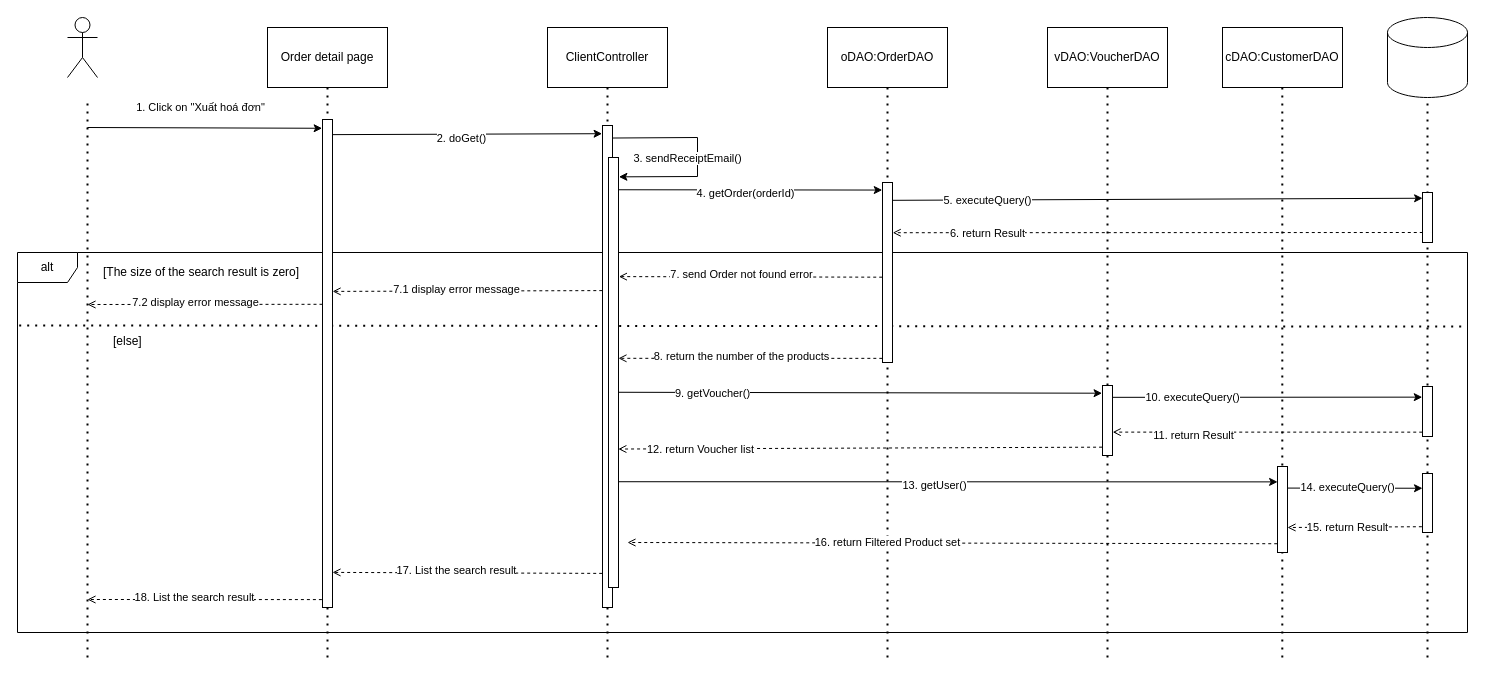
Image size: 1487x677. Some labels were removed from this diagram. The shapes that lost their labels are listed below. From the top down, each one's centre as x and y in pixels, then its label:
pixel 82 47: Customer
pixel 1427 57: DB
